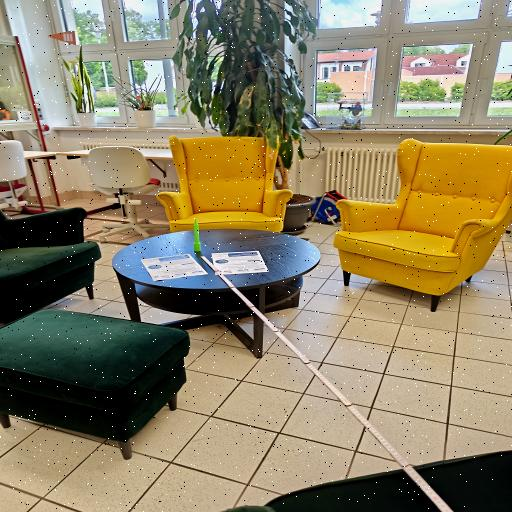Probe-Detection: (194, 219, 201, 252)
